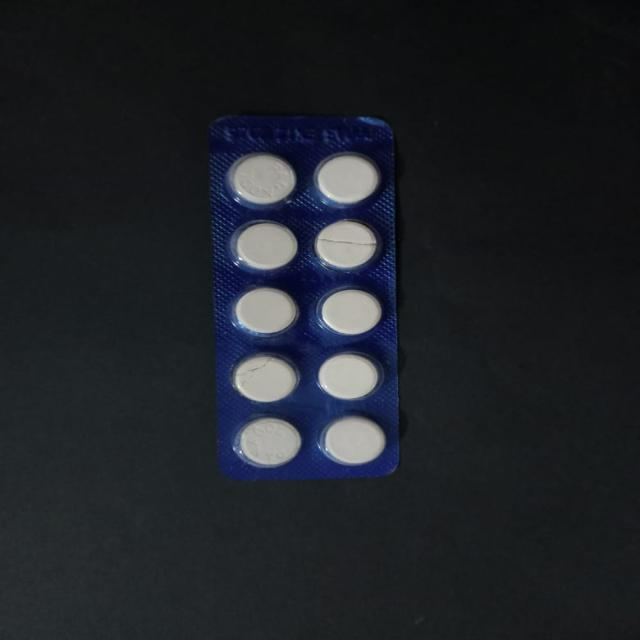defect: (229, 349, 304, 407), (312, 218, 385, 274)
